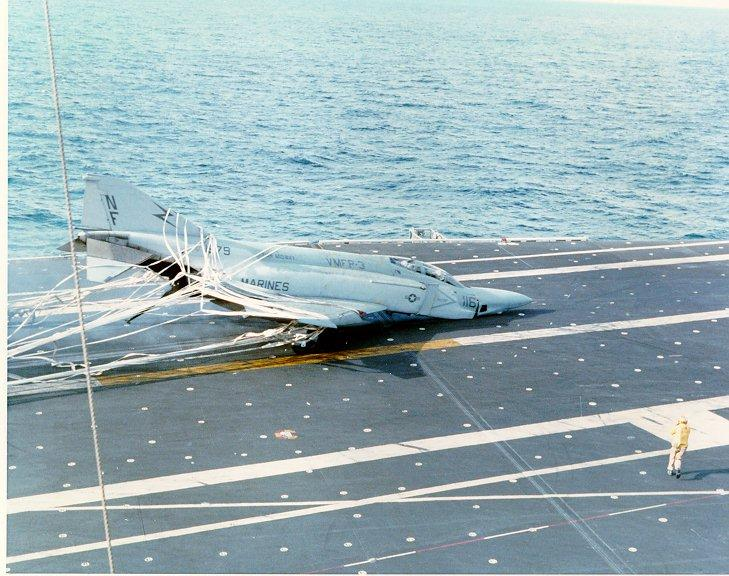F4: (54, 172, 545, 356)
